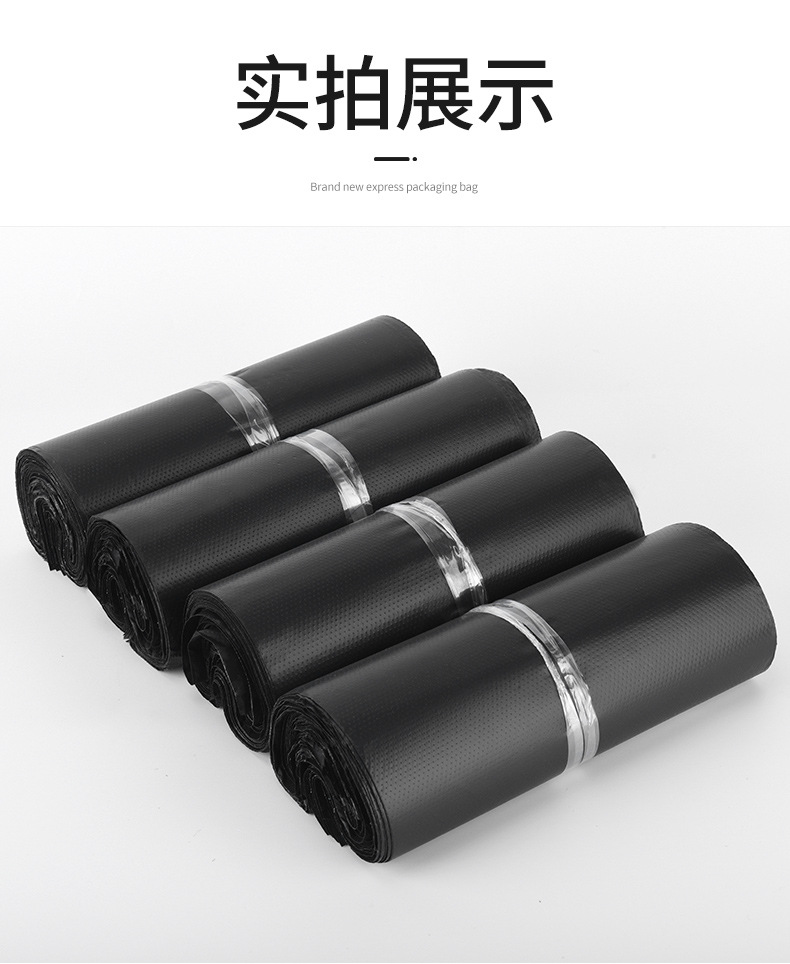Parcel: (0, 181, 788, 940)
